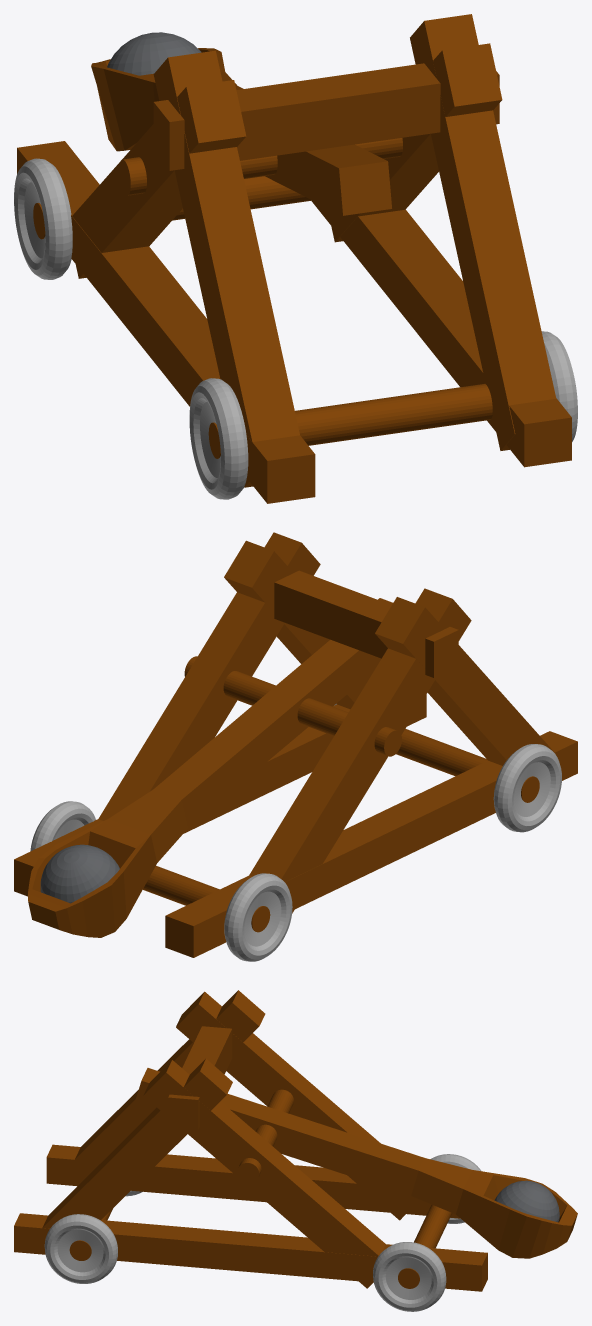
The model's file is Катапульта1.fbx.
The picture shows the model from 3 angles, top to bottom: view 1: azimuth 30°, elevation 25°; view 2: azimuth 150°, elevation 25°; view 3: azimuth 270°, elevation 25°; orthographic projection. The views are drawn at different scales.
Parts seen in each view (by area): view 1: Куб.028, Куб.025, Куб.031, Куб.018, Куб.030, Куб.027, Куб.026, Цилиндр.089, Куб.029, Тор.009, Тор.008, Сфера.002 (+3 smaller); view 2: Куб.026, Куб.027, Куб.031, Куб.029, Куб.025, Куб.018, Куб.030, Тор.009, Тор.008, Куб.028, Сфера.002, Цилиндр.087 (+3 smaller); view 3: Куб.026, Куб.030, Куб.029, Куб.027, Куб.028, Куб.031, Куб.025, Тор.010, Тор.011, Куб.018, Сфера.002, Цилиндр.088 (+3 smaller).
Boxes of the visible parts, bbox=[...] form: Куб.028: bbox=[410, 14, 556, 450]; Куб.025: bbox=[153, 50, 299, 487]; Куб.031: bbox=[17, 141, 315, 503]; Куб.018: bbox=[153, 63, 499, 170]; Куб.030: bbox=[311, 200, 571, 467]; Куб.027: bbox=[72, 80, 246, 278]; Куб.026: bbox=[91, 48, 391, 215]; Цилиндр.089: bbox=[208, 384, 492, 458]; Куб.029: bbox=[327, 43, 502, 242]; Тор.009: bbox=[14, 158, 72, 279]; Тор.008: bbox=[189, 378, 248, 499]; Сфера.002: bbox=[107, 32, 201, 75]; Куб.026: bbox=[28, 598, 392, 937]; Куб.027: bbox=[249, 588, 471, 913]; Куб.031: bbox=[165, 731, 577, 957]; Куб.029: bbox=[98, 532, 320, 820]; Куб.025: bbox=[375, 597, 554, 765]; Куб.018: bbox=[274, 570, 458, 677]; Куб.030: bbox=[14, 694, 426, 896]; Тор.009: bbox=[224, 873, 292, 961]; Тор.008: bbox=[493, 744, 561, 832]; Куб.028: bbox=[224, 540, 372, 709]; Сфера.002: bbox=[40, 844, 119, 903]; Цилиндр.087: bbox=[184, 656, 401, 756]; Куб.026: bbox=[134, 1068, 577, 1258]; Куб.030: bbox=[14, 1213, 487, 1291]; Куб.029: bbox=[143, 1060, 385, 1288]; Куб.027: bbox=[176, 991, 419, 1220]; Куб.028: bbox=[42, 1059, 232, 1228]; Куб.031: bbox=[46, 1144, 460, 1218]; Куб.025: bbox=[63, 990, 265, 1184]; Тор.010: bbox=[373, 1242, 446, 1311]; Тор.011: bbox=[44, 1214, 117, 1283]; Куб.018: bbox=[168, 1026, 232, 1129]; Сфера.002: bbox=[494, 1180, 559, 1222]; Цилиндр.088: bbox=[398, 1205, 452, 1288].
Bounding box in the file's own units: 99.28 × 78.91 × 185.
